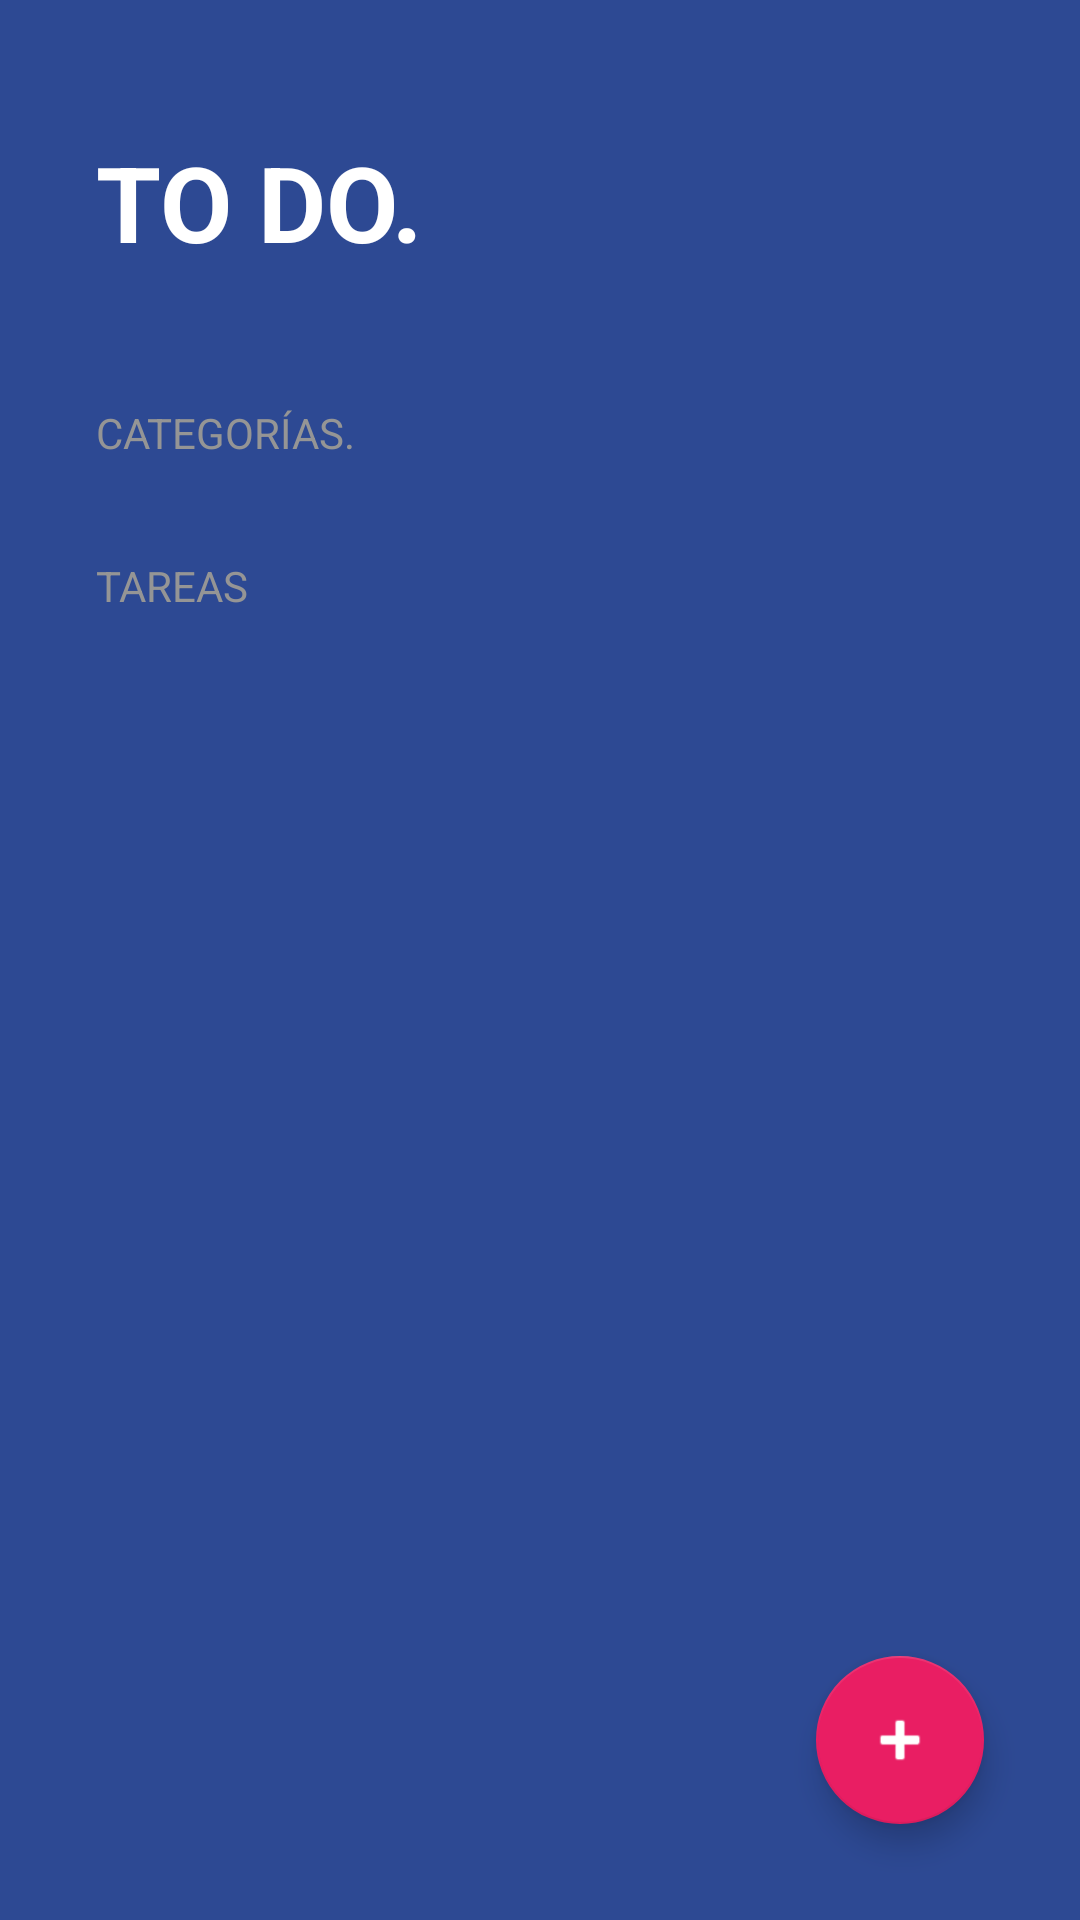

Screen size 1080px x 1920px. Icon name, then its box in pixels as (x1, y1, x2, y2):
add: (816, 1656, 984, 1824)
